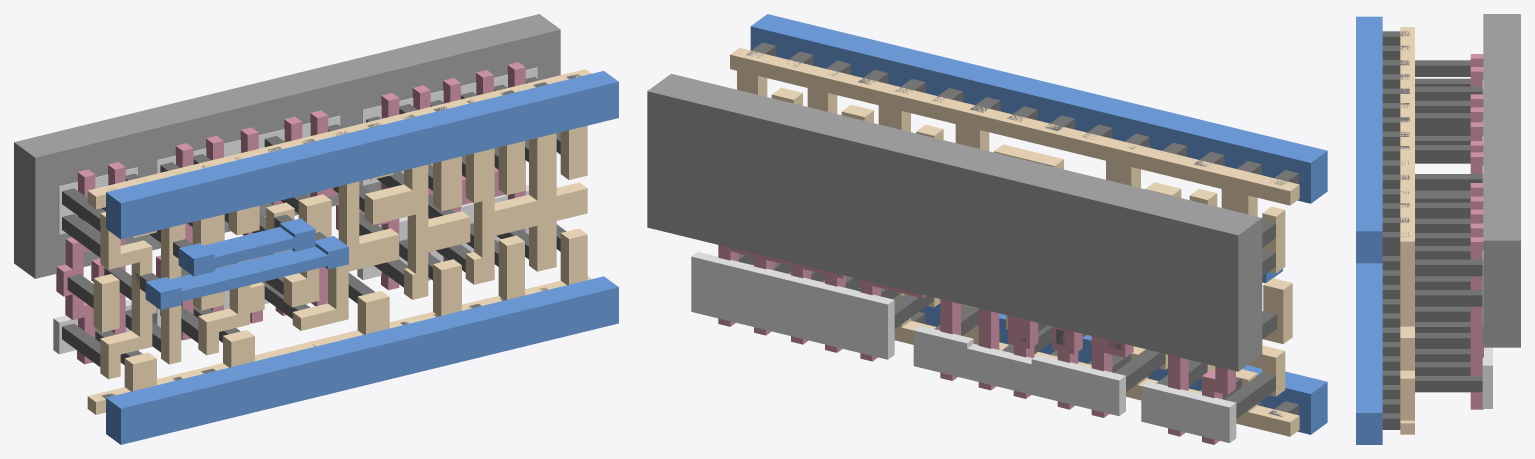
File: sky130_fd_sc_hd__dlxtn_4.gds.gltf
The picture shows the model from 3 angles, left to right: view 1: azimuth 30°, elevation 25°; view 2: azimuth 150°, elevation 25°; view 3: azimuth 270°, elevation 25°; orthographic projection. The views are drawn at different scales.
Parts seen in each view (by area): view 1: sky130_fd_sc_hd__dlxtn_4_met1, sky130_fd_sc_hd__dlxtn_4_li1, sky130_fd_sc_hd__dlxtn_4_nwell, sky130_fd_sc_hd__dlxtn_4_licon, sky130_fd_sc_hd__dlxtn_4_poly, sky130_fd_sc_hd__dlxtn_4_diff, sky130_fd_sc_hd__dlxtn_4_mcon; view 2: sky130_fd_sc_hd__dlxtn_4_nwell, sky130_fd_sc_hd__dlxtn_4_li1, sky130_fd_sc_hd__dlxtn_4_diff, sky130_fd_sc_hd__dlxtn_4_met1, sky130_fd_sc_hd__dlxtn_4_poly, sky130_fd_sc_hd__dlxtn_4_licon, sky130_fd_sc_hd__dlxtn_4_mcon; view 3: sky130_fd_sc_hd__dlxtn_4_licon, sky130_fd_sc_hd__dlxtn_4_nwell, sky130_fd_sc_hd__dlxtn_4_met1, sky130_fd_sc_hd__dlxtn_4_mcon, sky130_fd_sc_hd__dlxtn_4_li1, sky130_fd_sc_hd__dlxtn_4_poly, sky130_fd_sc_hd__dlxtn_4_diff.
Part boxes in pixels (left/top/right/bottom): sky130_fd_sc_hd__dlxtn_4_met1: left=106, top=71, right=618, bottom=444; sky130_fd_sc_hd__dlxtn_4_li1: left=87, top=69, right=591, bottom=414; sky130_fd_sc_hd__dlxtn_4_nwell: left=14, top=14, right=560, bottom=278; sky130_fd_sc_hd__dlxtn_4_licon: left=62, top=76, right=566, bottom=366; sky130_fd_sc_hd__dlxtn_4_poly: left=56, top=62, right=525, bottom=364; sky130_fd_sc_hd__dlxtn_4_diff: left=53, top=67, right=537, bottom=354; sky130_fd_sc_hd__dlxtn_4_mcon: left=101, top=74, right=580, bottom=398; sky130_fd_sc_hd__dlxtn_4_nwell: left=647, top=73, right=1262, bottom=371; sky130_fd_sc_hd__dlxtn_4_li1: left=730, top=48, right=1299, bottom=436; sky130_fd_sc_hd__dlxtn_4_diff: left=691, top=252, right=1236, bottom=442; sky130_fd_sc_hd__dlxtn_4_met1: left=750, top=14, right=1327, bottom=434; sky130_fd_sc_hd__dlxtn_4_poly: left=718, top=245, right=1235, bottom=444; sky130_fd_sc_hd__dlxtn_4_licon: left=738, top=125, right=1277, bottom=418; sky130_fd_sc_hd__dlxtn_4_mcon: left=746, top=42, right=1298, bottom=416; sky130_fd_sc_hd__dlxtn_4_licon: left=1415, top=60, right=1482, bottom=392; sky130_fd_sc_hd__dlxtn_4_nwell: left=1483, top=14, right=1520, bottom=347; sky130_fd_sc_hd__dlxtn_4_met1: left=1356, top=16, right=1382, bottom=444; sky130_fd_sc_hd__dlxtn_4_mcon: left=1382, top=31, right=1409, bottom=429; sky130_fd_sc_hd__dlxtn_4_li1: left=1400, top=27, right=1414, bottom=434; sky130_fd_sc_hd__dlxtn_4_poly: left=1470, top=54, right=1483, bottom=409; sky130_fd_sc_hd__dlxtn_4_diff: left=1482, top=80, right=1492, bottom=408.
Bounding box in the file's own units: 7.28 × 3.2 × 2.24.
